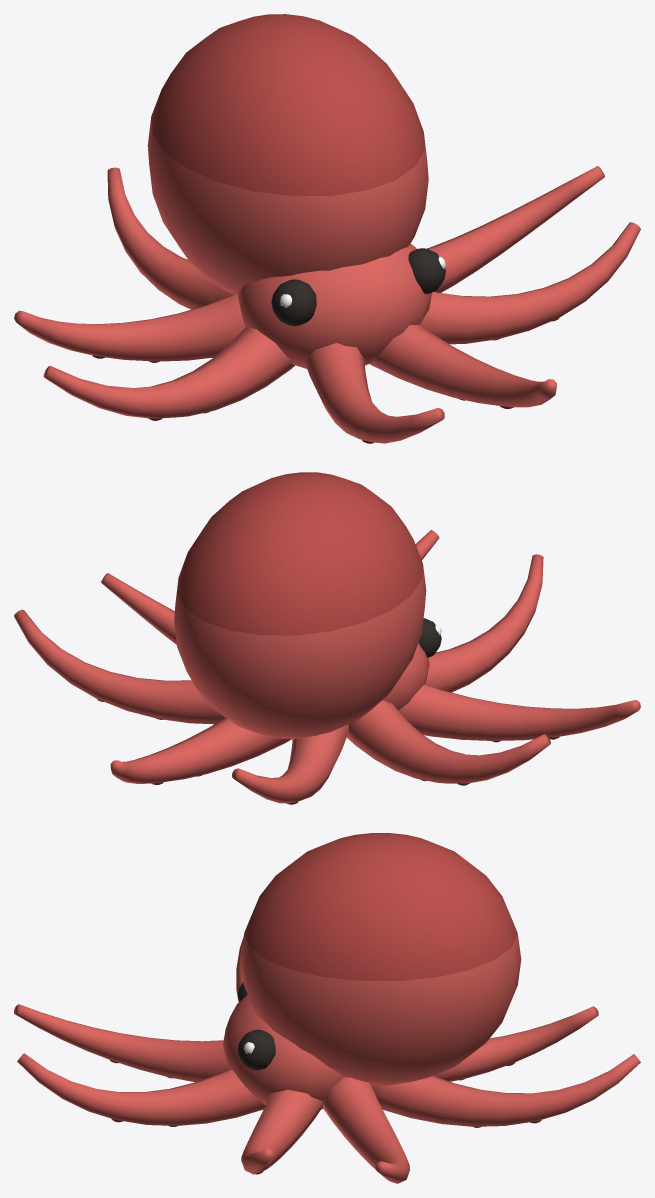
File: fish-octopus.glb
The picture shows the model from 3 angles, top to bottom: view 1: azimuth 30°, elevation 25°; view 2: azimuth 150°, elevation 25°; view 3: azimuth 270°, elevation 25°; orthographic projection. The views are drawn at different scales.
Parts seen in each view (by area): view 1: octopus; view 2: octopus; view 3: octopus.
Part boxes in pixels (left/top/right/bottom): octopus: left=14, top=14, right=640, bottom=443; octopus: left=14, top=472, right=640, bottom=804; octopus: left=14, top=833, right=640, bottom=1183.
Size of the model in its own units: 0.4323 by 0.1961 by 0.4288.
